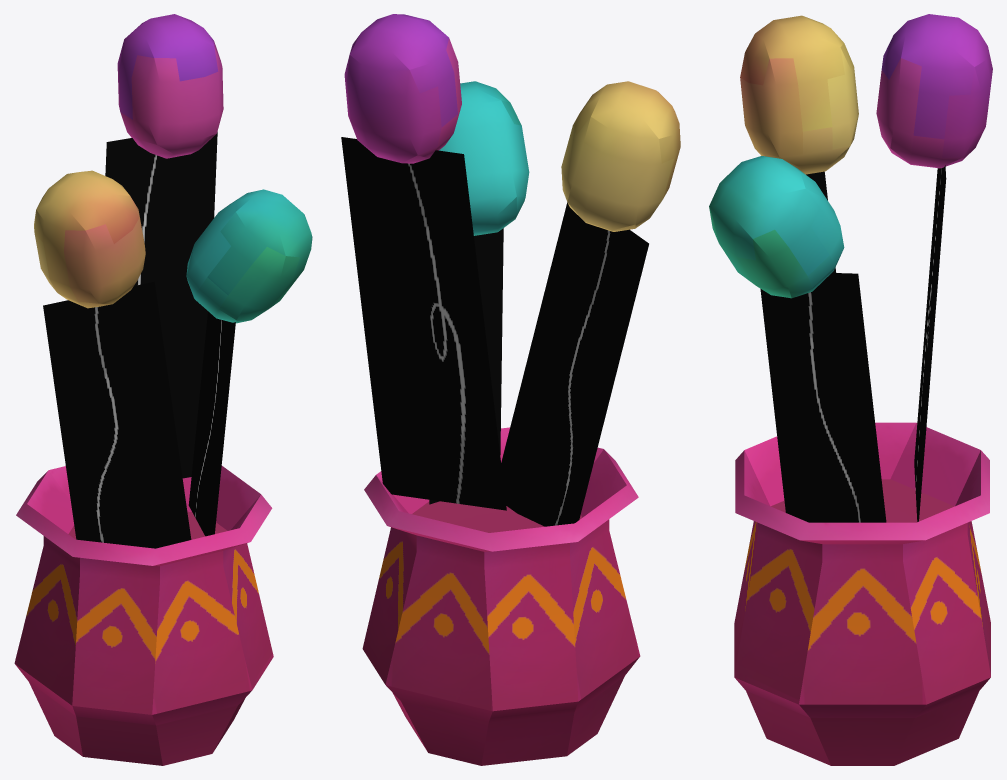
Rendered from balloon_pot.fbx.
The picture shows the model from 3 angles, left to right: view 1: azimuth 30°, elevation 25°; view 2: azimuth 150°, elevation 25°; view 3: azimuth 270°, elevation 25°; orthographic projection. The views are drawn at different scales.
Parts seen in each view (by area): view 1: balloon_pot; view 2: balloon_pot; view 3: balloon_pot.
Boxes of the visible parts, bbox=[...] form: balloon_pot: bbox=[14, 14, 312, 765]; balloon_pot: bbox=[341, 14, 680, 765]; balloon_pot: bbox=[709, 14, 992, 765].
Bounding box in the file's own units: 12.98 × 33.19 × 11.58.
